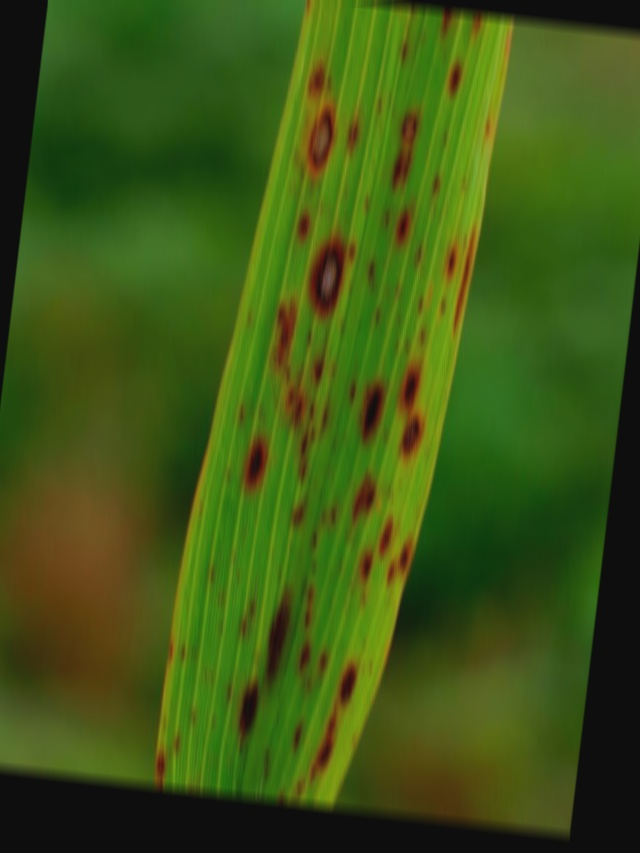Bacterial_Leaf_Blight: (253, 583, 302, 697), (312, 231, 352, 309), (352, 366, 390, 438), (306, 103, 340, 178), (307, 707, 338, 786), (227, 686, 267, 746), (238, 426, 272, 496), (349, 463, 389, 522), (335, 649, 373, 710), (397, 352, 428, 414), (386, 200, 426, 248), (300, 52, 337, 95), (401, 407, 427, 459), (428, 0, 452, 44), (375, 508, 396, 558), (457, 219, 466, 335), (436, 236, 457, 285), (391, 113, 426, 142), (396, 529, 414, 583), (353, 546, 379, 582), (444, 58, 463, 96), (148, 754, 171, 785), (469, 3, 490, 35)
